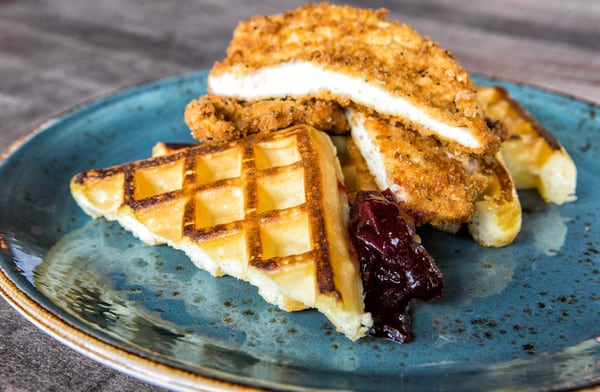soup: (187, 3, 539, 244), (64, 124, 438, 342)
